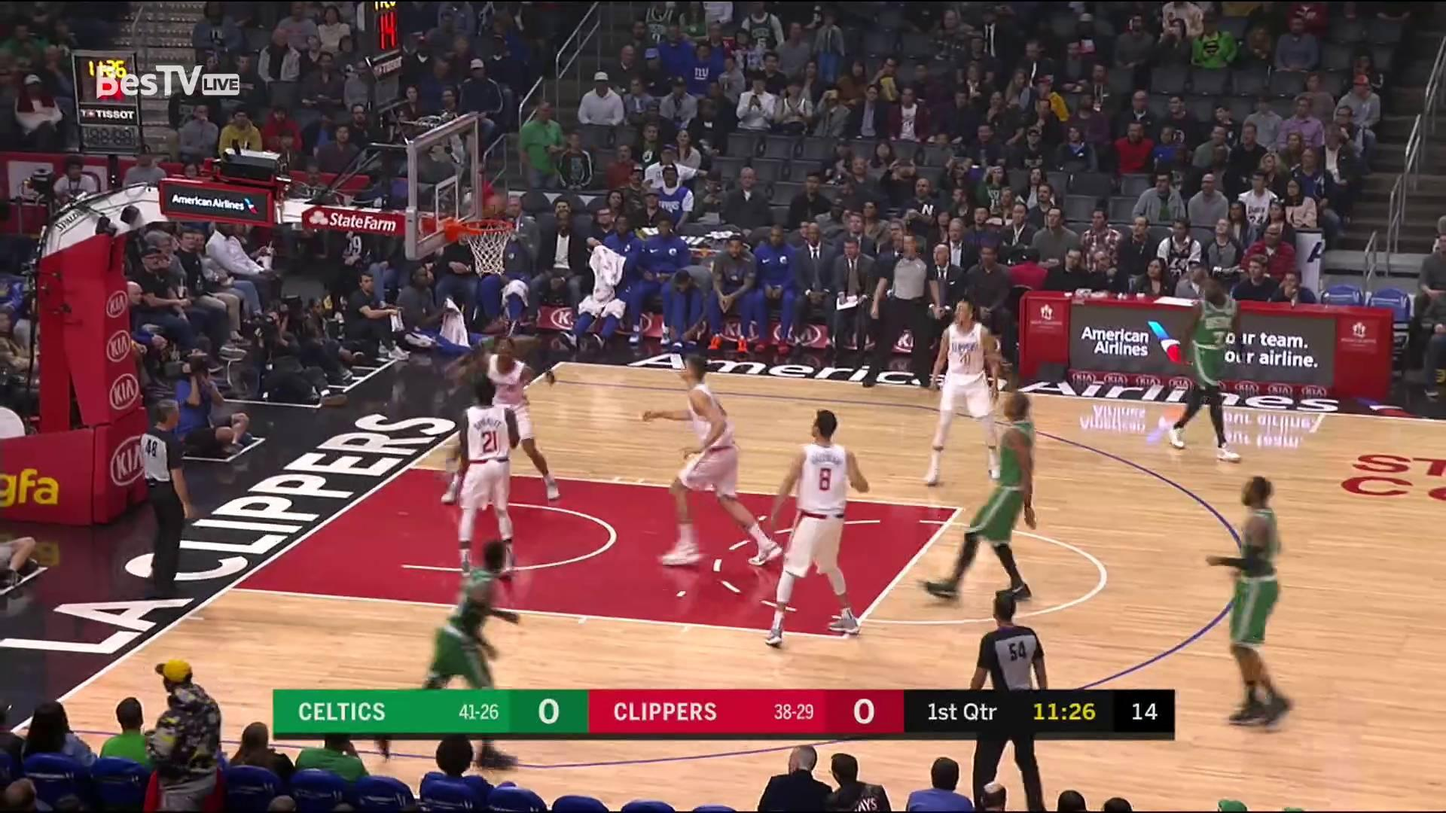basketball: (603, 156, 632, 186)
